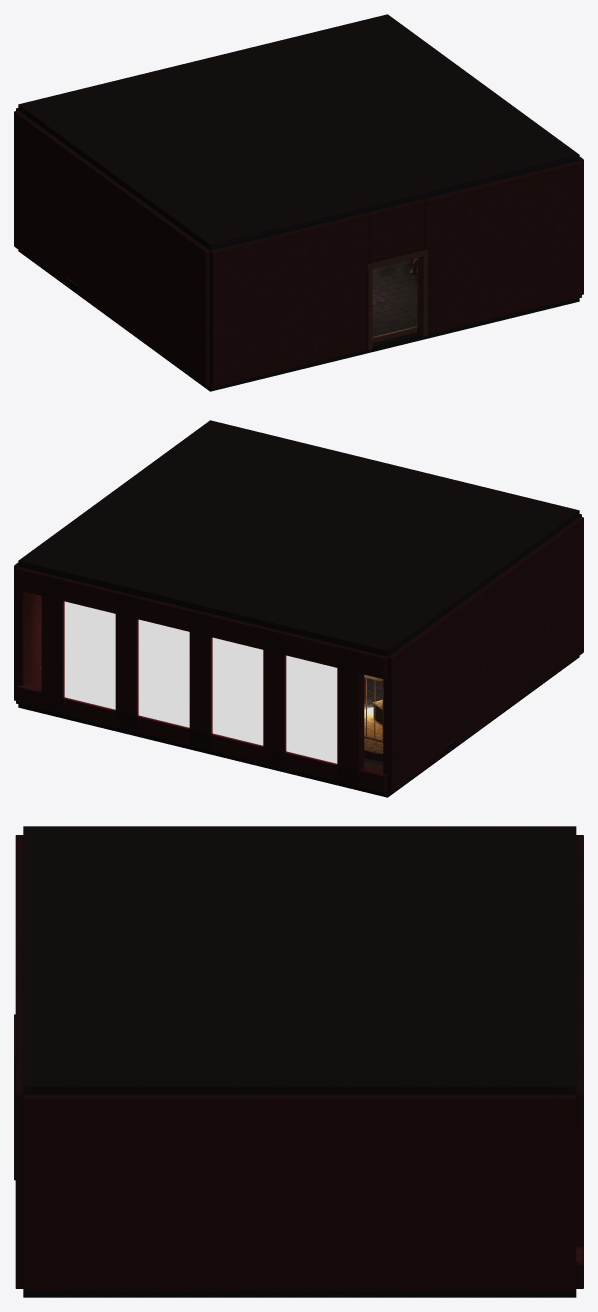
Rendered from salon.glb.
The picture shows the model from 3 angles, top to bottom: view 1: azimuth 30°, elevation 25°; view 2: azimuth 150°, elevation 25°; view 3: azimuth 270°, elevation 25°; orthographic projection. The views are drawn at different scales.
Visible parts, largest first — view 1: Shell; view 2: Shell, Window-6.0, Window6.0, Window-2.0, Window2.0; view 3: Shell.
Part boxes in pixels (left/top/right/bottom): Shell: left=14, top=14, right=583, bottom=391; Shell: left=14, top=420, right=583, bottom=797; Window-6.0: left=286, top=655, right=337, bottom=763; Window6.0: left=64, top=601, right=115, bottom=709; Window-2.0: left=212, top=637, right=263, bottom=745; Window2.0: left=138, top=619, right=189, bottom=727; Shell: left=14, top=826, right=583, bottom=1297.
Size of the model in its own units: 20.57 by 7.6 by 18.55.
Materials: 5 (2 with a texture image).
